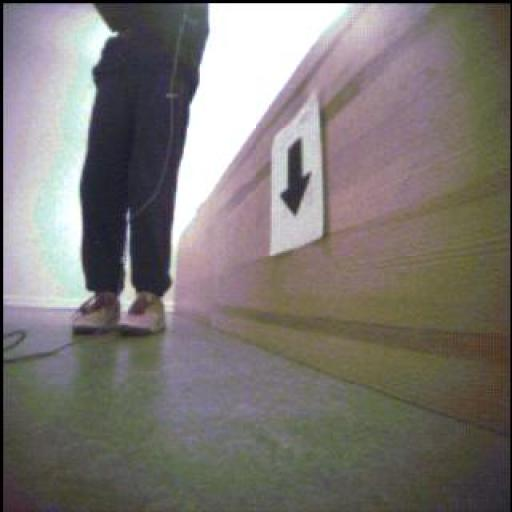Arrow: (281, 141, 311, 216)
